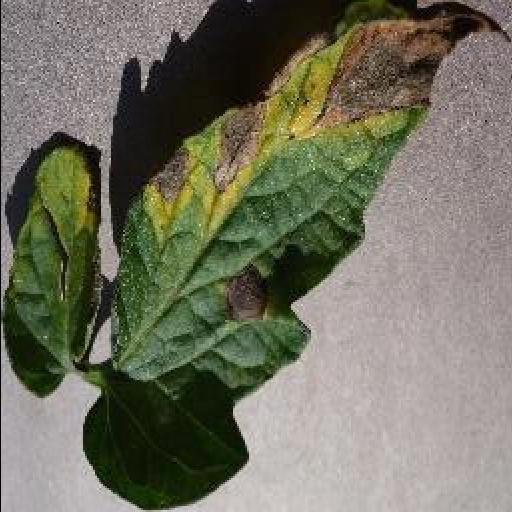Early Blight: (80, 8, 508, 512)
